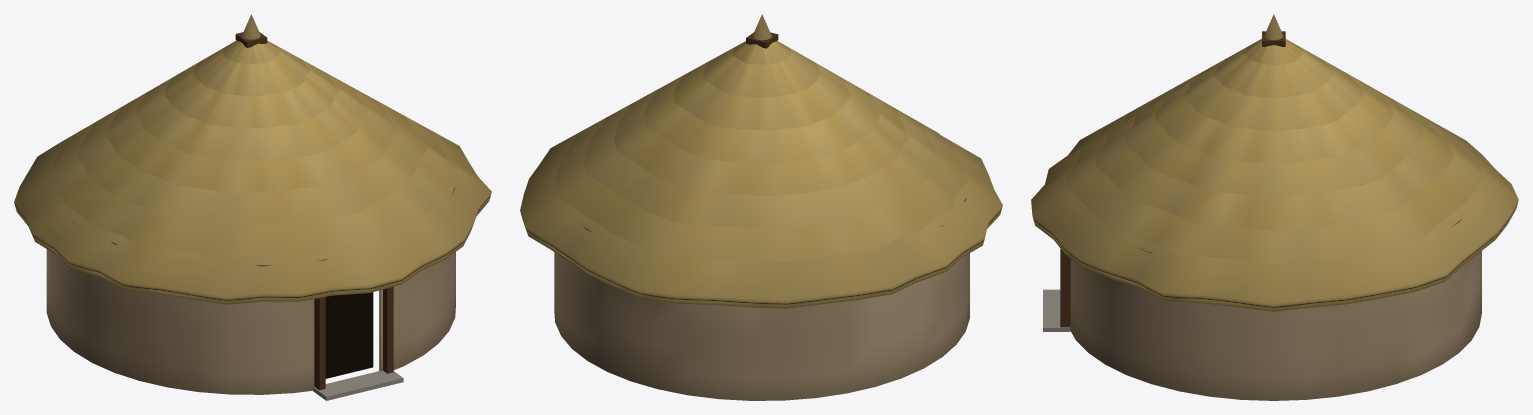
Rendered from roundhouse-wattle-5.glb.
3 renders of one model, left to right at view 1: azimuth 30°, elevation 25°; view 2: azimuth 150°, elevation 25°; view 3: azimuth 270°, elevation 25°, orthographic.
Parts seen in each view (by area): view 1: roundhouse-wattle-5; view 2: roundhouse-wattle-5; view 3: roundhouse-wattle-5.
Part boxes in pixels (x1,y1,x2,y2): roundhouse-wattle-5: [14, 14, 491, 400]; roundhouse-wattle-5: [520, 14, 1002, 400]; roundhouse-wattle-5: [1031, 14, 1518, 400].
Bounding box in the file's own units: 5.31 × 3.64 × 5.39.
